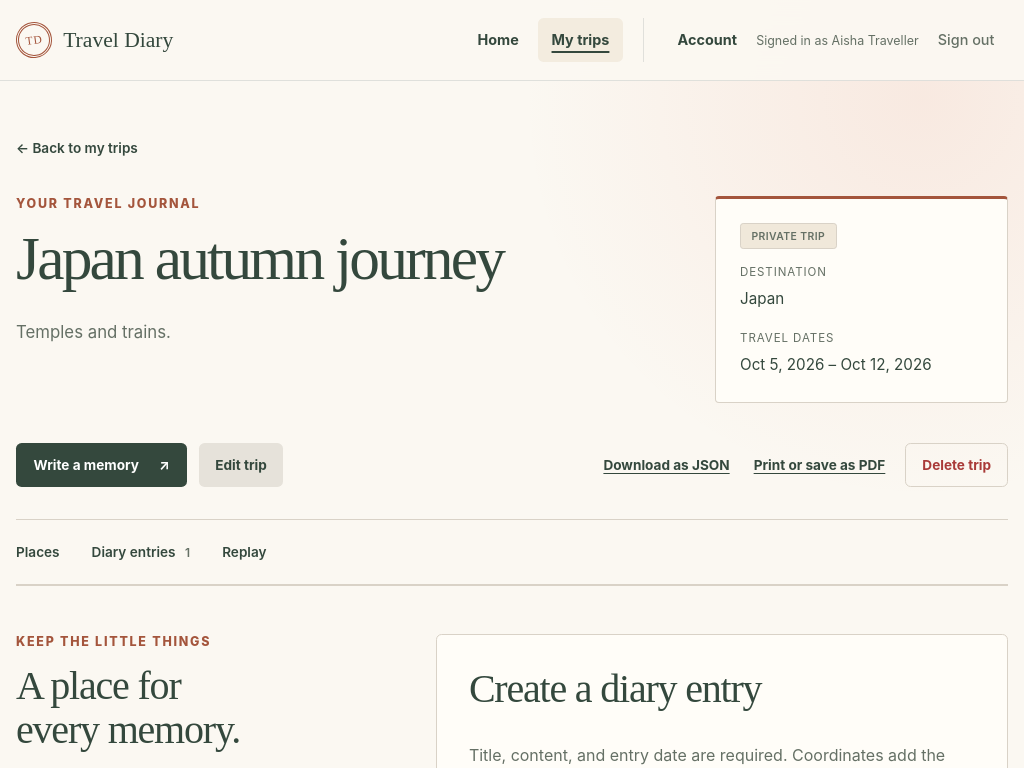
Test: TripDetails owner actions › renames a trip without leaving the page
Click the button "Edit trip": (241,465) [199,443,283,487]
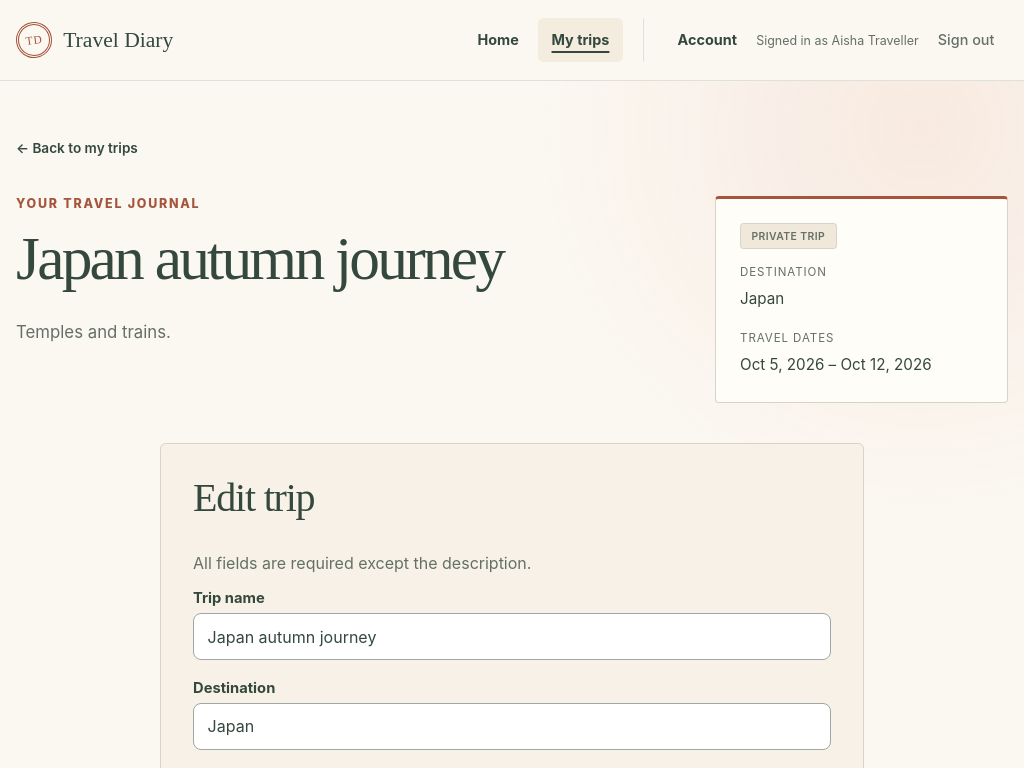
Replace the text in the field labelled "Trip name" with "Japan in autumn": (512,637) [193,613,831,660]
(page scrolled)
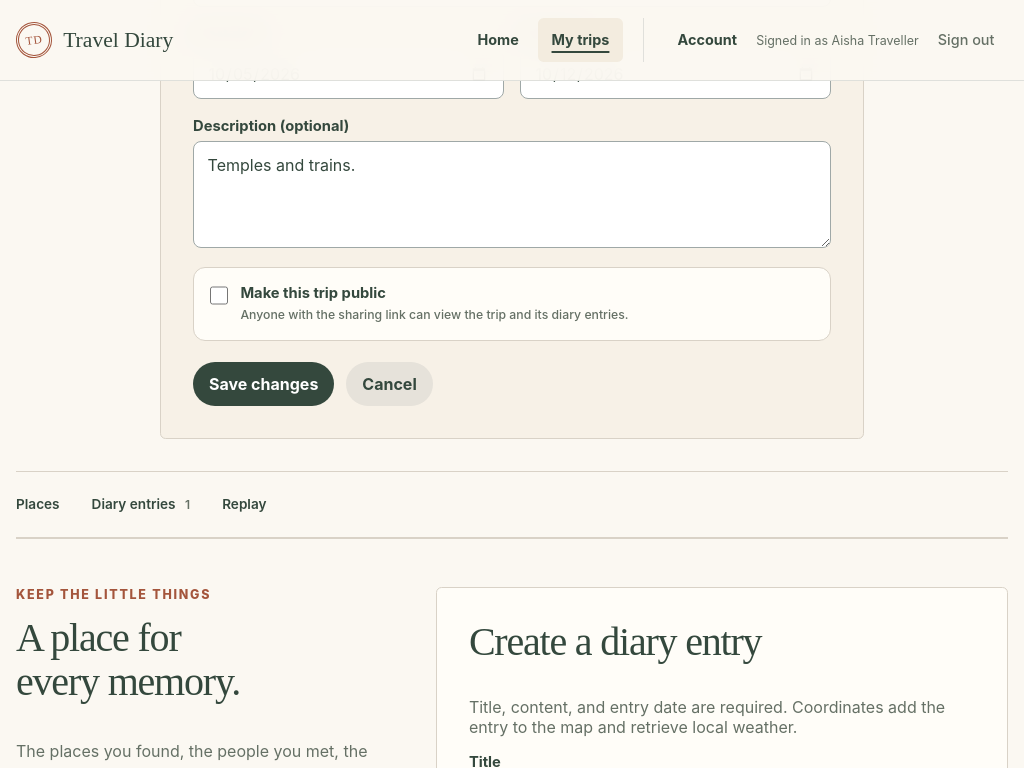
Click the button "Save changes": (264,384) [193,362,334,406]
(page scrolled)
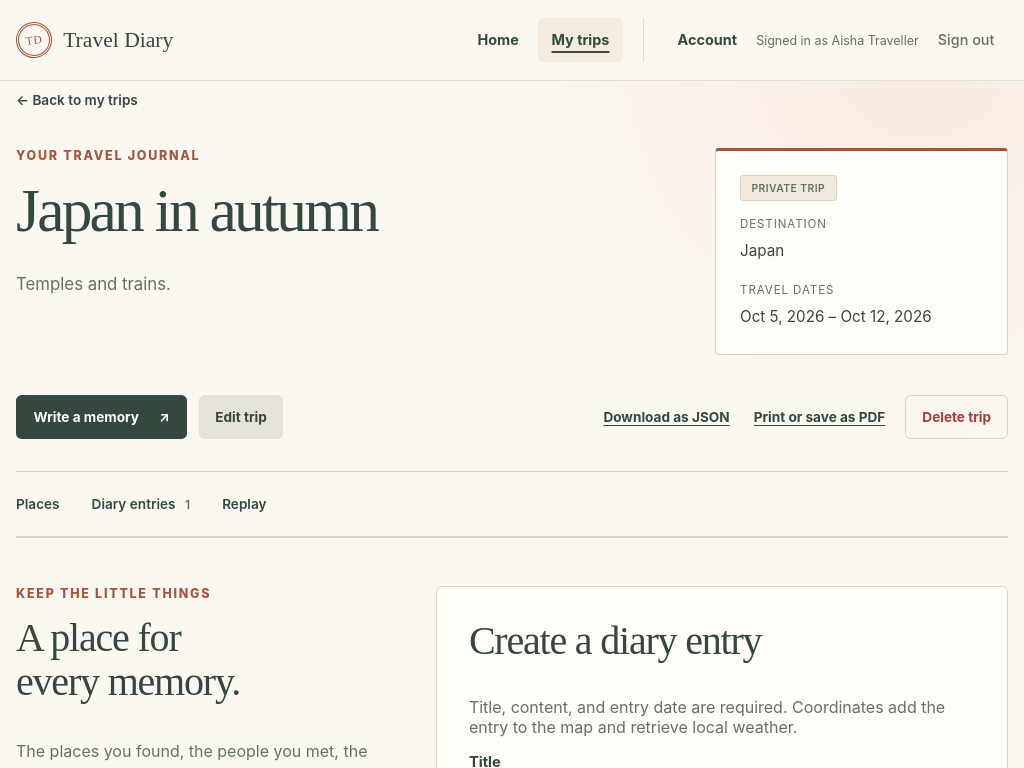
Now the heading "Japan in autumn" is shown, box [16,176,377,244]
Now the button "Save changes" is gone
